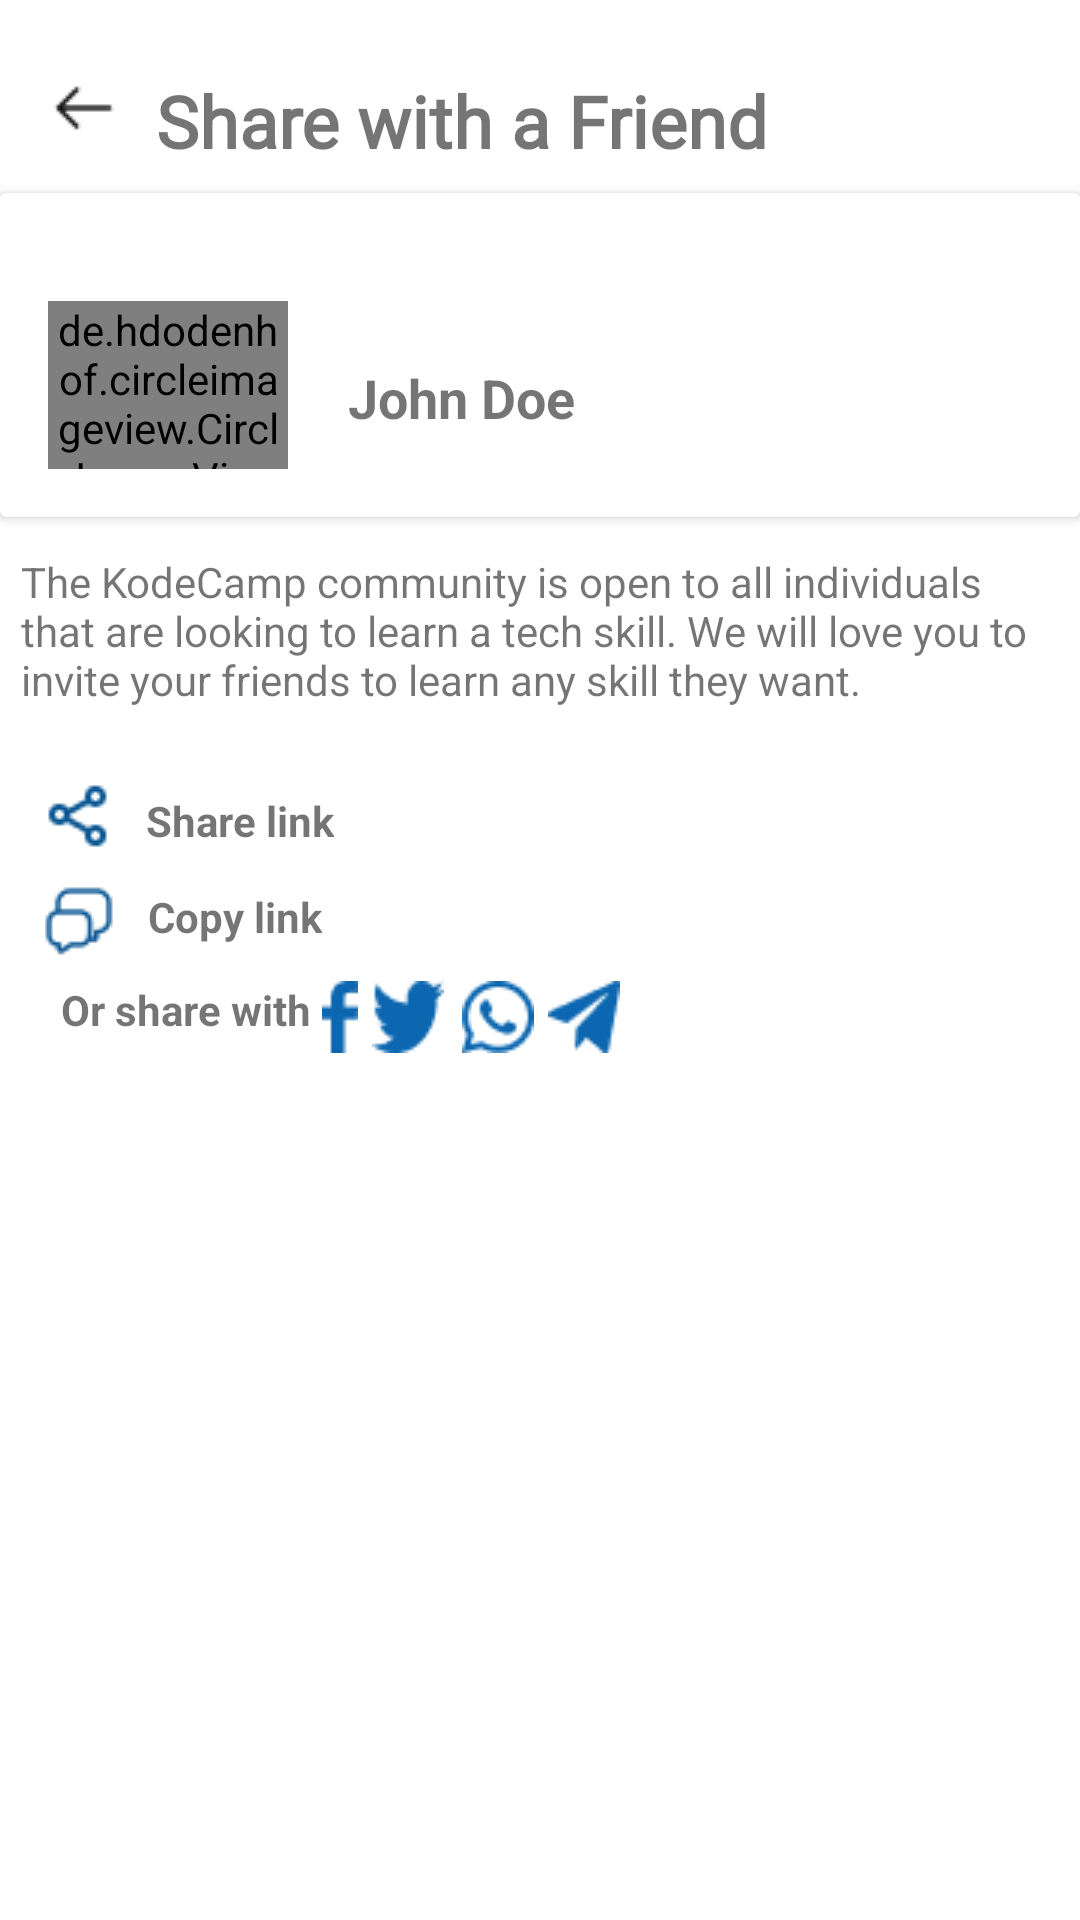

Locate icon controls on the screen. Image size 1080x1920, boxes as (x1, y1, x2, y2).
arrow left: (55, 86, 113, 130)
